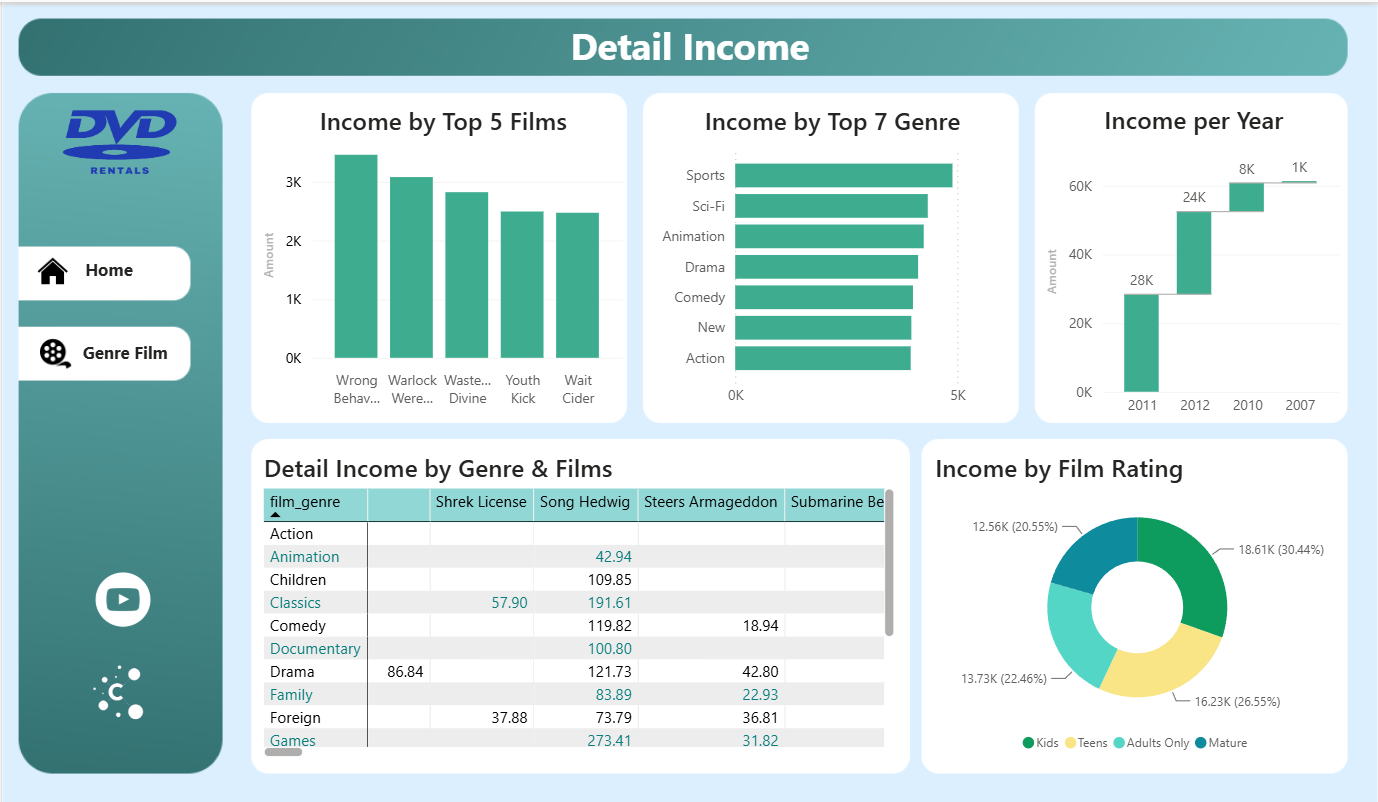

The page's visual inventory and layout, read from the dashboard file:
{"tool":"powerbi","page":{"name":"income","canvas":[1201,700],"ordinal":1},"visuals":[{"type":"clusteredColumnChart","title":"Income by Top 5 Films","fields":{"Category":["datamart_tren_pendapatan.film_title"],"Y":["Sum(datamart_tren_pendapatan.amount)"]},"box":[224,86.3,323.2,273],"z":0},{"type":"pivotTable","title":"Detail Income by Genre & Films","fields":{"Columns":["datamart_tren_pendapatan.film_title"],"Rows":["datamart_tren_pendapatan.film_genre"],"Values":["Sum(datamart_tren_pendapatan.amount)"]},"box":[224,388.8,560.1,273],"z":1000},{"type":"waterfallChart","title":"Income per Year ","fields":{"Category":["datamart_tren_pendapatan.tahun"],"Y":["Sum(datamart_tren_pendapatan.amount)"]},"box":[907.8,85.6,265.1,282.7],"z":2000},{"type":"donutChart","title":"Income by Film Rating","fields":{"Category":["datamart_tren_pendapatan.film_rating"],"Y":["Sum(datamart_tren_pendapatan.amount)"]},"box":[809.9,388.8,363.1,273],"z":3000},{"type":"textbox","box":[454.5,9,291,56.7],"z":4000},{"type":"image","box":[25.6,207.8,38.9,48.9],"z":5000},{"type":"image","box":[28.3,280.4,37.3,47.6],"z":6000},{"type":"textbox","box":[65.6,288.2,101.6,32.2],"z":7000},{"type":"shape","box":[17.8,280,138.9,46.7],"z":8000},{"type":"image","box":[37.3,74.6,131.2,88.8],"z":9000},{"type":"clusteredBarChart","title":"Income by Top 7 Genre","fields":{"Category":["datamart_tren_pendapatan.film_genre"],"Y":["datamart_tren_pendapatan.Total Revenue"]},"box":[564.6,85.9,319.6,272.8],"z":10000},{"type":"textbox","box":[67.8,215.6,88.9,31.1],"z":11000},{"type":"image","box":[68.2,467,75.9,104.2],"z":12000},{"type":"image","box":[63,553.2,79.8,95.2],"z":13000},{"type":"shape","box":[10.6,206.4,146.6,49.3],"z":14000}]}

Visuals, with their boxes in screenshot pixels (x1, y1, x2, y2), scaled from the page's 1201x700 canvas onto the 1378x802 screenshot:
"Income by Top 5 Films" clusteredColumnChart: bbox(257, 99, 628, 412)
"Detail Income by Genre & Films" pivotTable: bbox(257, 445, 900, 758)
"Income per Year " waterfallChart: bbox(1042, 98, 1346, 422)
"Income by Film Rating" donutChart: bbox(929, 445, 1346, 758)
textbox: bbox(521, 10, 855, 75)
image: bbox(29, 238, 74, 294)
image: bbox(32, 321, 75, 376)
textbox: bbox(75, 330, 192, 367)
shape: bbox(20, 321, 180, 374)
image: bbox(43, 85, 193, 187)
"Income by Top 7 Genre" clusteredBarChart: bbox(648, 98, 1015, 411)
textbox: bbox(78, 247, 180, 283)
image: bbox(78, 535, 165, 654)
image: bbox(72, 634, 164, 743)
shape: bbox(12, 236, 180, 293)
